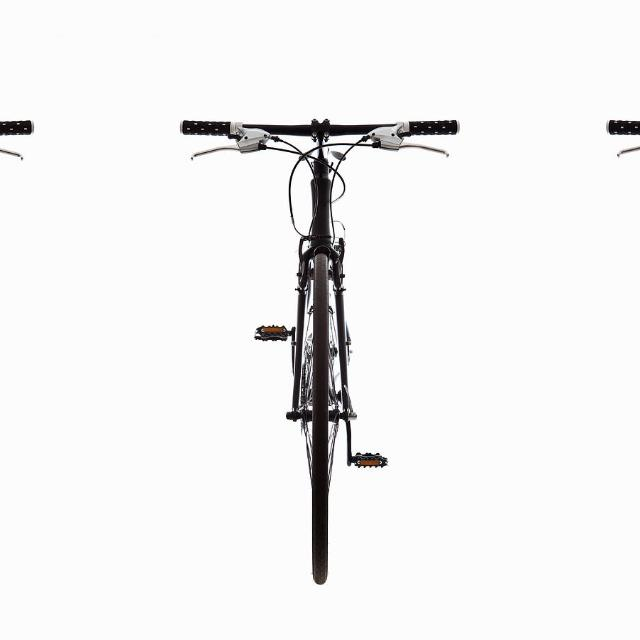obstacle: (165, 94, 475, 590), (590, 94, 640, 590), (0, 94, 47, 590)
